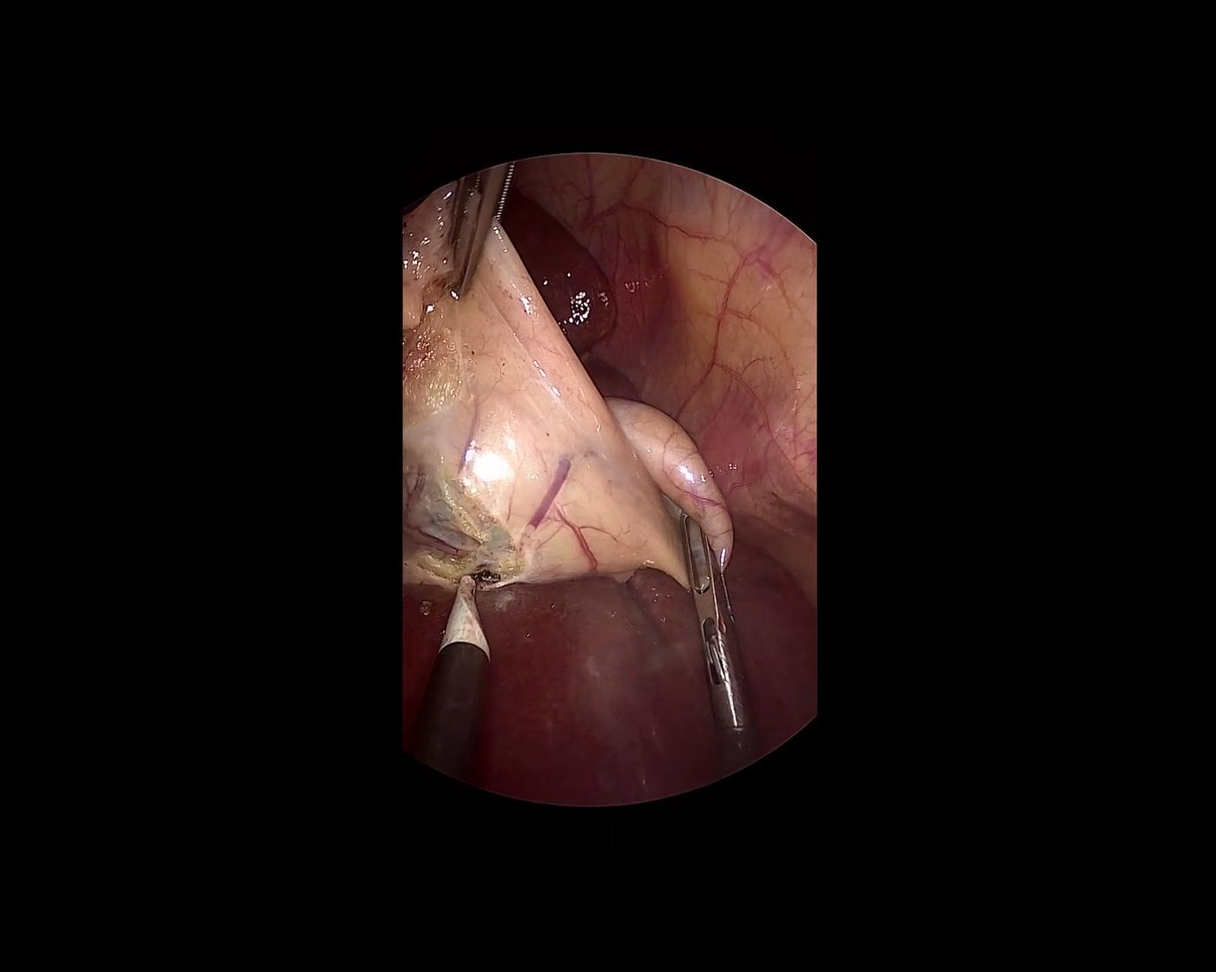Cautery: (401, 570, 504, 786)
Forceps: (666, 506, 765, 777), (422, 149, 510, 306)
Gallbladder: (401, 182, 732, 590)
Liver: (387, 533, 834, 823), (488, 169, 668, 416)
